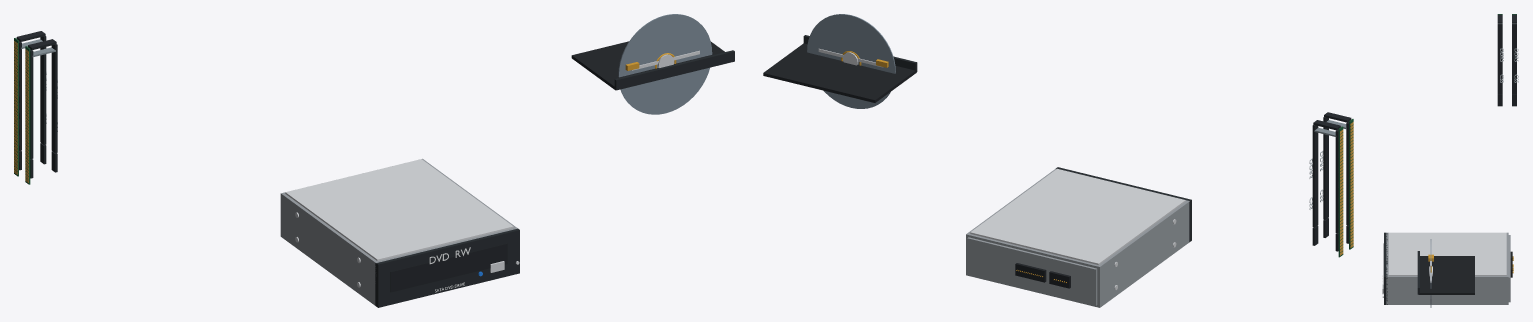
Rendered from ram.glb.
The picture shows the model from 3 angles, left to right: view 1: azimuth 30°, elevation 25°; view 2: azimuth 150°, elevation 25°; view 3: azimuth 270°, elevation 25°; orthographic projection. The views are drawn at different scales.
Parts seen in each view (by area): view 1: OPTICAL_TopCover, OPTICAL_Disc, OPTICAL_Enclosure, OPTICAL_FrontBezel, OPTICAL_TraySlot, OPTICAL_TrayBase, OPTICAL_TrayLip, RAM_B_Heatsink_Back_Upper.001, RAM_A_Heatsink_Back_Upper.001, RAM_B_PCB.001; view 2: OPTICAL_TopCover, OPTICAL_Enclosure, OPTICAL_RearPanel, OPTICAL_TrayBase, OPTICAL_Disc, RAM_A_Heatsink_Back_Upper.001, OPTICAL_FrontBezel, RAM_A_PCB.001, OPTICAL_SATA_Power, RAM_B_PCB.001; view 3: OPTICAL_TopCover, OPTICAL_Enclosure, OPTICAL_TrayBase, RAM_B_Heatsink_Back_Upper.001, RAM_A_Heatsink_Back_Upper.001, OPTICAL_FrontBezel, OPTICAL_RearPanel, OPTICAL_TrayLip, OPTICAL_Disc, RAM_B_Heatsink_Back_Lower.001.
Part boxes in pixels (x1=…): OPTICAL_TopCover: x1=285, y1=159, x2=513, y2=261; OPTICAL_Disc: x1=618, y1=14, x2=712, y2=114; OPTICAL_Enclosure: x1=280, y1=158, x2=517, y2=305; OPTICAL_FrontBezel: x1=375, y1=228, x2=519, y2=307; OPTICAL_TraySlot: x1=390, y1=243, x2=507, y2=292; OPTICAL_TrayBase: x1=571, y1=41, x2=724, y2=90; OPTICAL_TrayLip: x1=614, y1=50, x2=734, y2=90; RAM_B_Heatsink_Back_Upper.001: x1=51, y1=44, x2=57, y2=125; RAM_A_Heatsink_Back_Upper.001: x1=40, y1=36, x2=46, y2=118; RAM_B_PCB.001: x1=25, y1=46, x2=30, y2=184; OPTICAL_TopCover: x1=970, y1=168, x2=1185, y2=265; OPTICAL_Enclosure: x1=966, y1=169, x2=1189, y2=307; OPTICAL_RearPanel: x1=967, y1=237, x2=1097, y2=305; OPTICAL_TrayBase: x1=763, y1=43, x2=916, y2=102; OPTICAL_Disc: x1=807, y1=14, x2=895, y2=108; RAM_A_Heatsink_Back_Upper.001: x1=1312, y1=125, x2=1318, y2=202; OPTICAL_FrontBezel: x1=1055, y1=167, x2=1191, y2=242; RAM_A_PCB.001: x1=1338, y1=126, x2=1343, y2=257; OPTICAL_SATA_Power: x1=1015, y1=263, x2=1046, y2=282; RAM_B_PCB.001: x1=1349, y1=119, x2=1353, y2=249; OPTICAL_TopCover: x1=1388, y1=232, x2=1506, y2=275; OPTICAL_Enclosure: x1=1386, y1=232, x2=1508, y2=304; OPTICAL_TrayBase: x1=1418, y1=256, x2=1474, y2=294; RAM_B_Heatsink_Back_Upper.001: x1=1497, y1=24, x2=1502, y2=76; RAM_A_Heatsink_Back_Upper.001: x1=1512, y1=24, x2=1516, y2=76; OPTICAL_FrontBezel: x1=1384, y1=232, x2=1387, y2=304; OPTICAL_RearPanel: x1=1508, y1=235, x2=1510, y2=302; OPTICAL_TrayLip: x1=1417, y1=251, x2=1419, y2=294; OPTICAL_Disc: x1=1430, y1=239, x2=1431, y2=307; RAM_B_Heatsink_Back_Lower.001: x1=1497, y1=75, x2=1502, y2=93.
Bounding box in the file's own units: 0.6619 × 0.2534 × 0.189.
